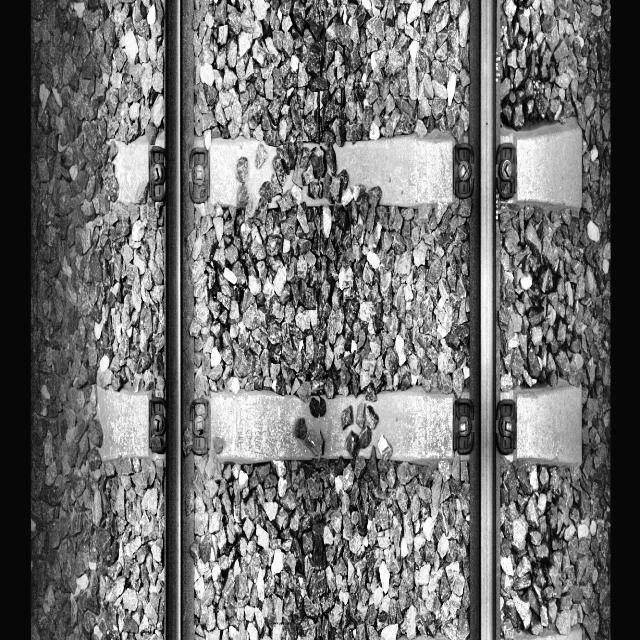Clips: (186, 147, 218, 206), (189, 397, 219, 458), (492, 394, 520, 456), (148, 392, 172, 464), (451, 395, 475, 459), (451, 147, 476, 204), (496, 143, 518, 203), (149, 146, 170, 201)
Sleepers: (79, 378, 586, 476), (98, 126, 587, 219)
